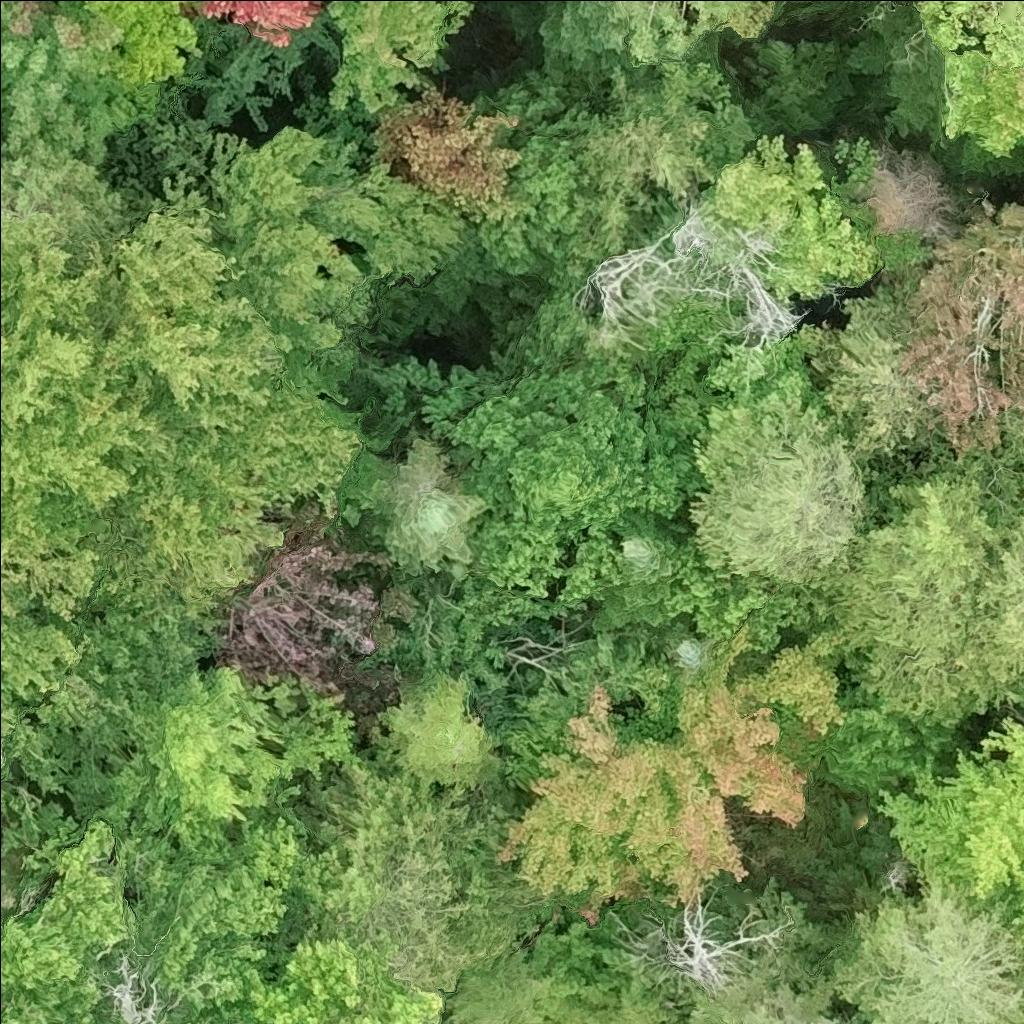crown: (0, 168, 364, 627), (0, 808, 444, 1023), (418, 331, 707, 656), (497, 660, 810, 921), (287, 756, 543, 997), (67, 664, 361, 857), (829, 446, 1020, 725), (201, 123, 398, 352), (686, 367, 878, 600), (867, 714, 1023, 993), (0, 595, 129, 874), (896, 194, 1023, 462), (699, 129, 884, 303), (822, 876, 1023, 1023), (338, 430, 497, 577), (0, 0, 134, 167), (809, 284, 929, 467), (364, 87, 520, 213), (0, 135, 152, 262), (367, 670, 503, 803), (58, 0, 202, 118), (326, 0, 475, 111), (917, 0, 1023, 154), (955, 512, 1023, 715), (736, 622, 847, 740), (847, 2, 944, 136), (662, 534, 774, 648), (606, 0, 781, 70), (589, 509, 687, 631), (688, 955, 863, 1023), (707, 586, 830, 678), (863, 147, 960, 245), (525, 0, 626, 90), (191, 0, 323, 51), (0, 848, 53, 913), (999, 404, 1023, 512), (659, 634, 714, 674), (0, 1, 11, 24), (660, 624, 666, 625)
